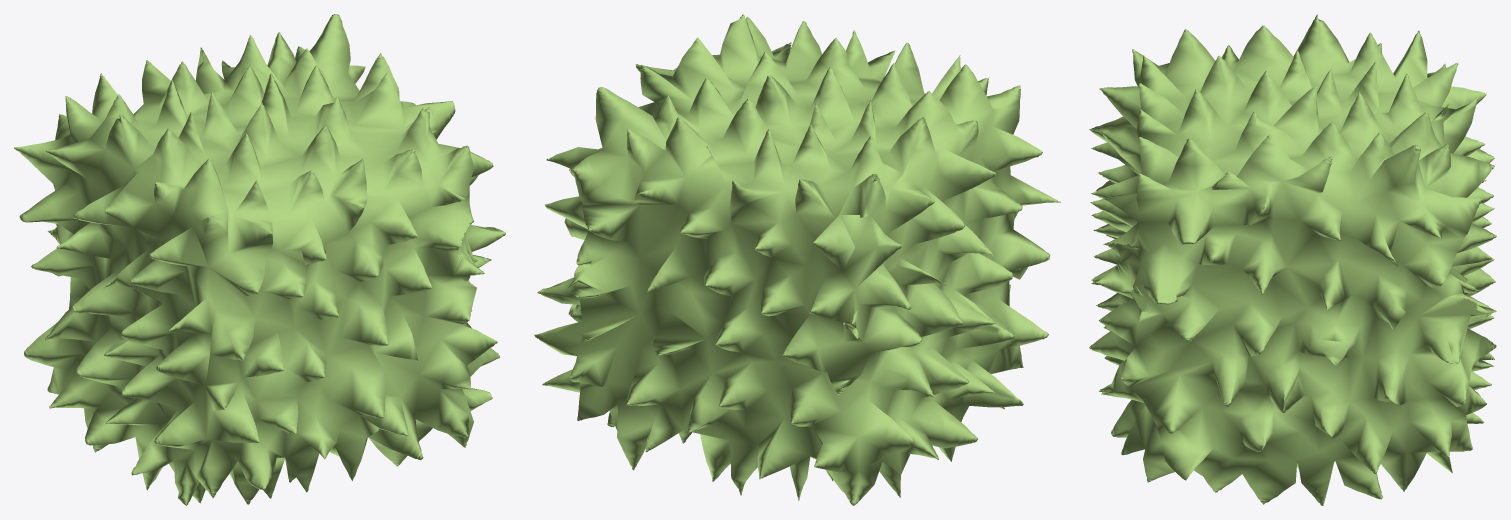
The model's file is hedge.glb.
3 views of the same model, side by side, from view 1: azimuth 30°, elevation 25°; view 2: azimuth 150°, elevation 25°; view 3: azimuth 270°, elevation 25° (orthographic). The views are drawn at different scales.
Visible parts, largest first — view 1: tripo_node_b35a64a6-269d-4fb5-9323-24ea79182b43; view 2: tripo_node_b35a64a6-269d-4fb5-9323-24ea79182b43; view 3: tripo_node_b35a64a6-269d-4fb5-9323-24ea79182b43.
Boxes of the visible parts, x1,y1,x2,y2 form: tripo_node_b35a64a6-269d-4fb5-9323-24ea79182b43: (14, 14, 505, 505); tripo_node_b35a64a6-269d-4fb5-9323-24ea79182b43: (534, 14, 1060, 505); tripo_node_b35a64a6-269d-4fb5-9323-24ea79182b43: (1089, 14, 1496, 505).
Size of the model in its own units: 0.998 by 0.9902 by 0.998.
Materials: 1 (1 with a texture image).
